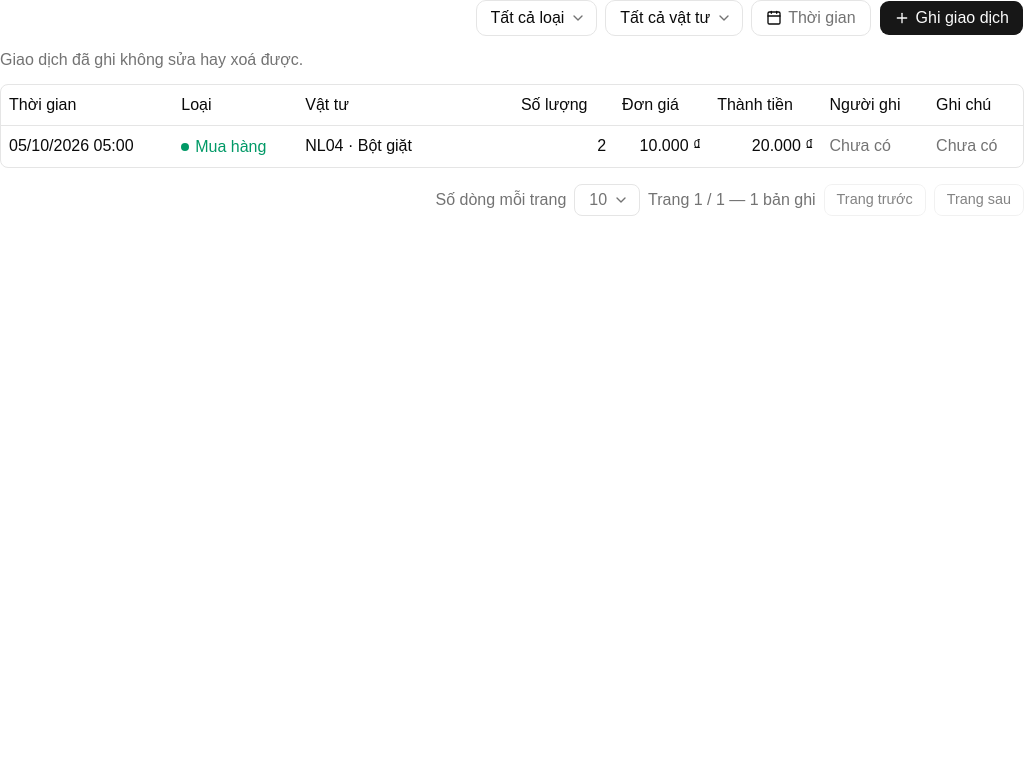
Test case: SupplierTransactions › canRecord=true → nút mở sheet ghi giao dịch
Click the button "Ghi giao dịch" at [951, 18], box [879,0,1023,36]
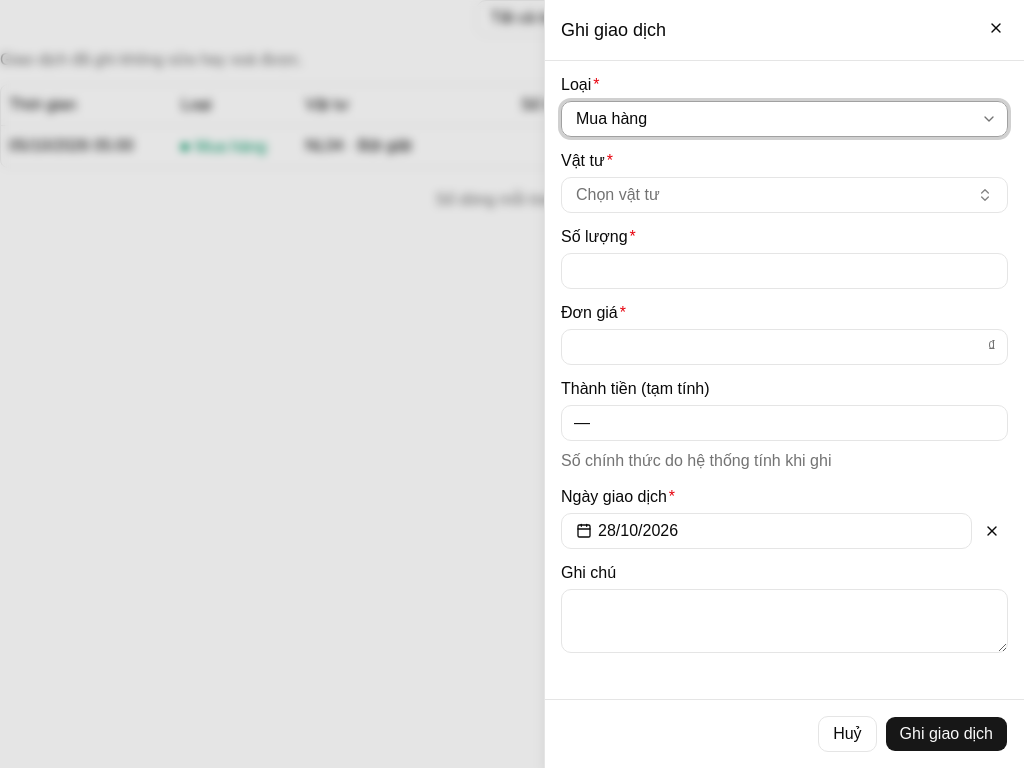
Check: the dialog "Ghi giao dịch" is shown, box [544,0,1023,767]
